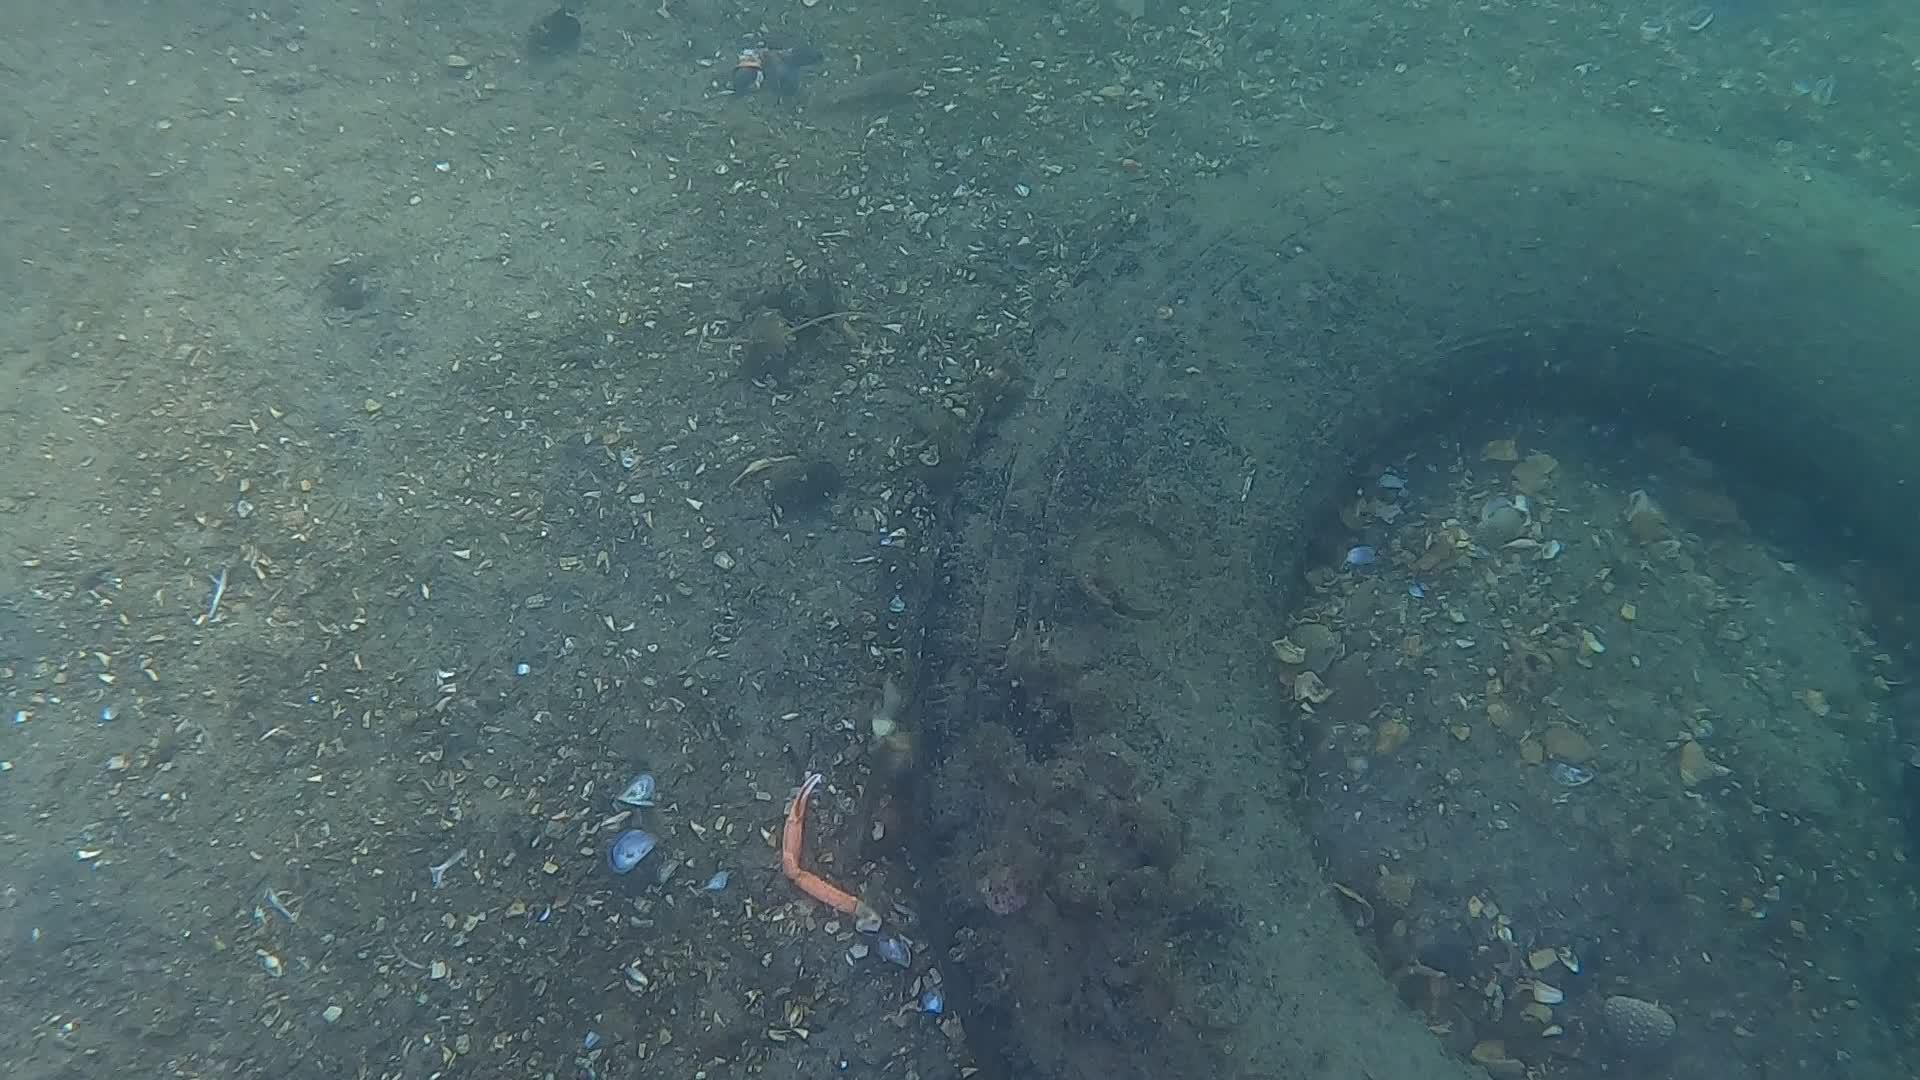tire: (910, 117, 1920, 1080)
